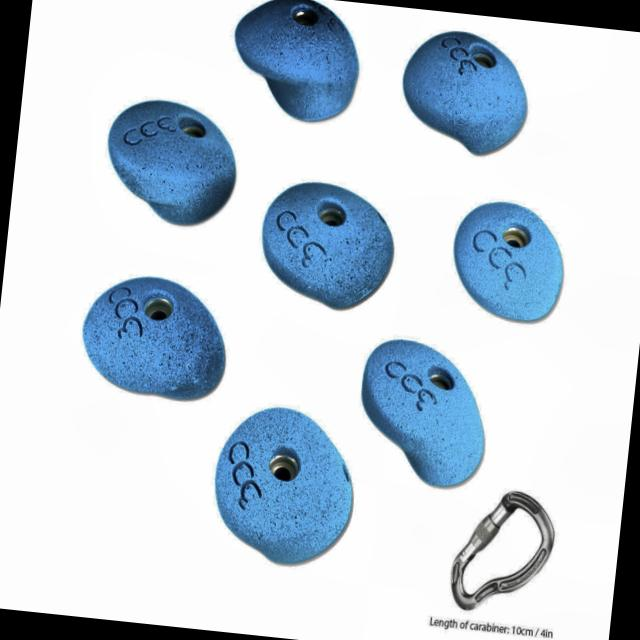Hold: (206, 400, 362, 572), (353, 336, 494, 492), (78, 268, 236, 404), (255, 177, 401, 314), (392, 24, 538, 160), (100, 94, 242, 228), (225, 0, 365, 127), (444, 196, 570, 326)
